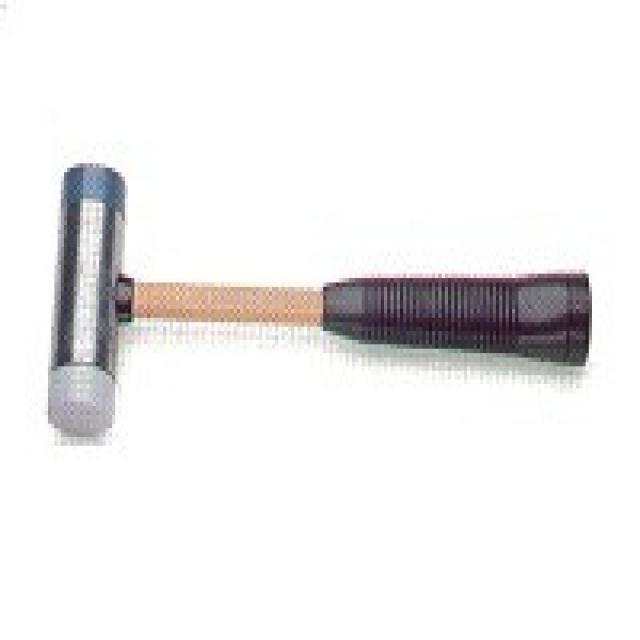hammer: (31, 147, 612, 461)
